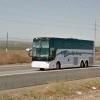Bus: (26, 32, 95, 74)
